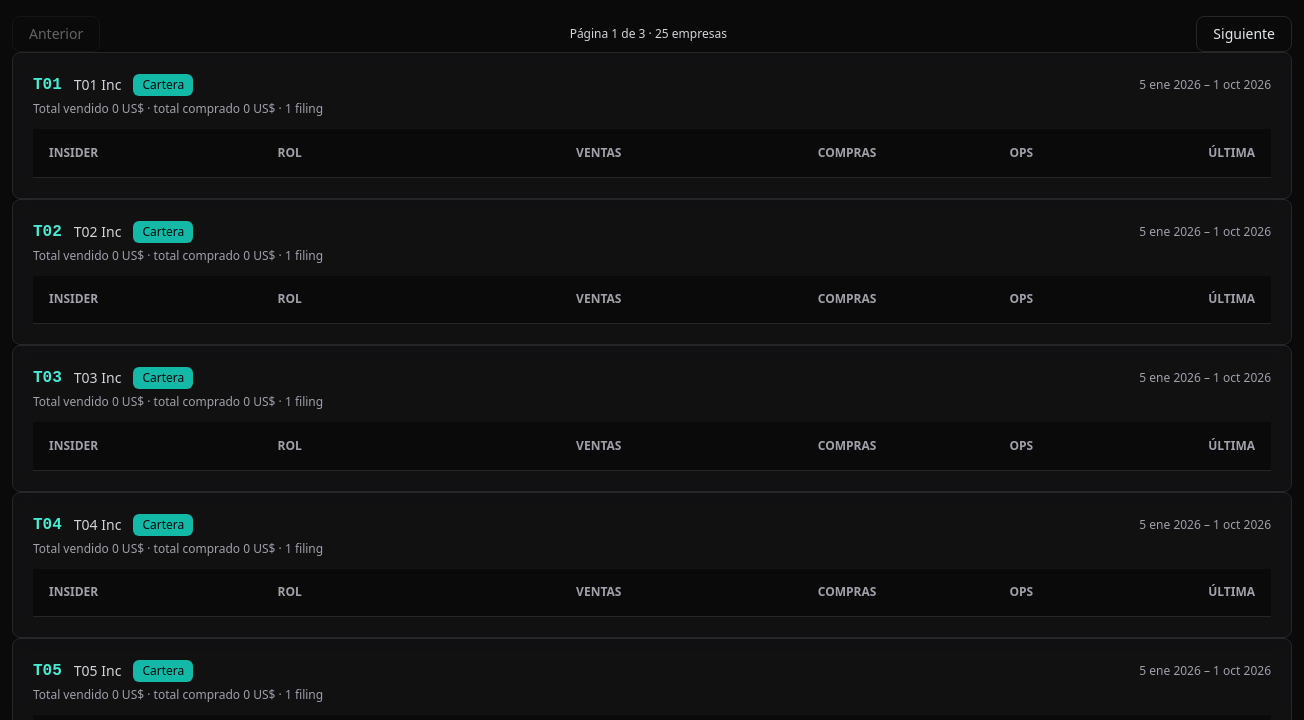
it: PagedInsiderCompanies › pagina la lista de empresas (10 por página, arriba y abajo)
Expected: the text "T11" is not shown
Click the button "Siguiente" at (1244, 34), box [1196,16,1292,52]
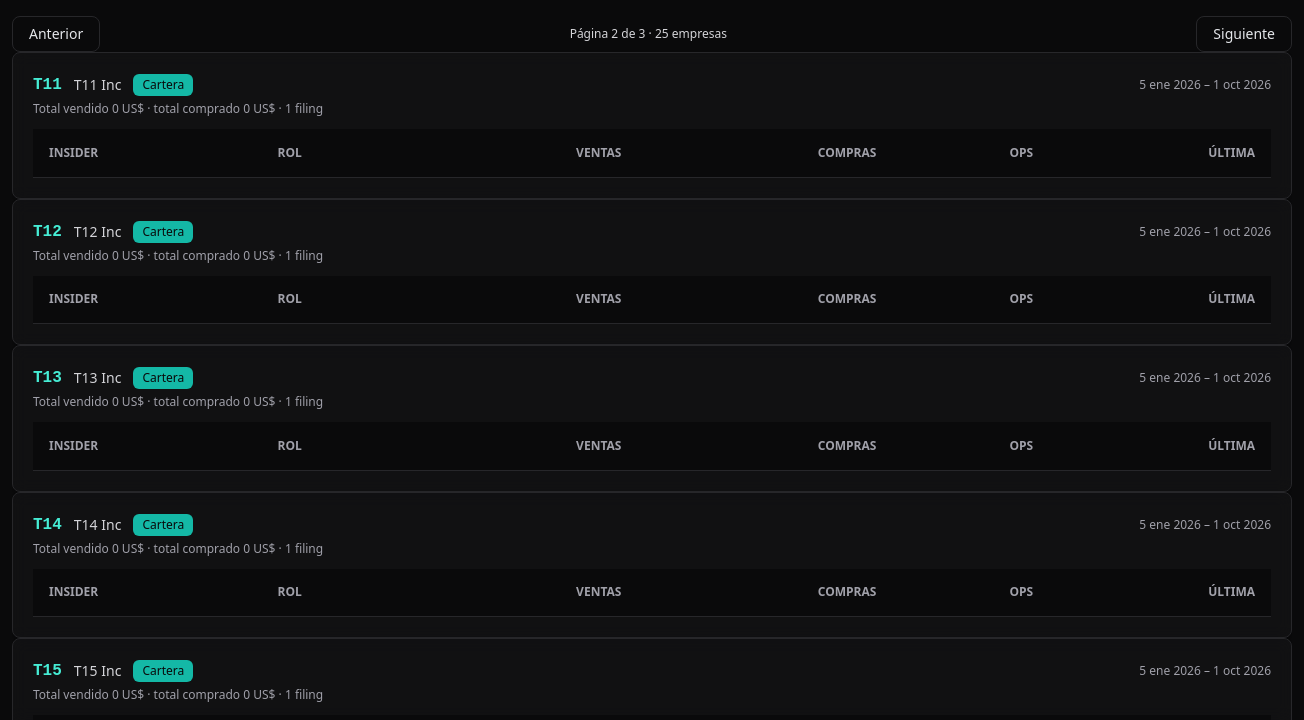
Result: the link "T11" is shown at [33,73,62,97]
